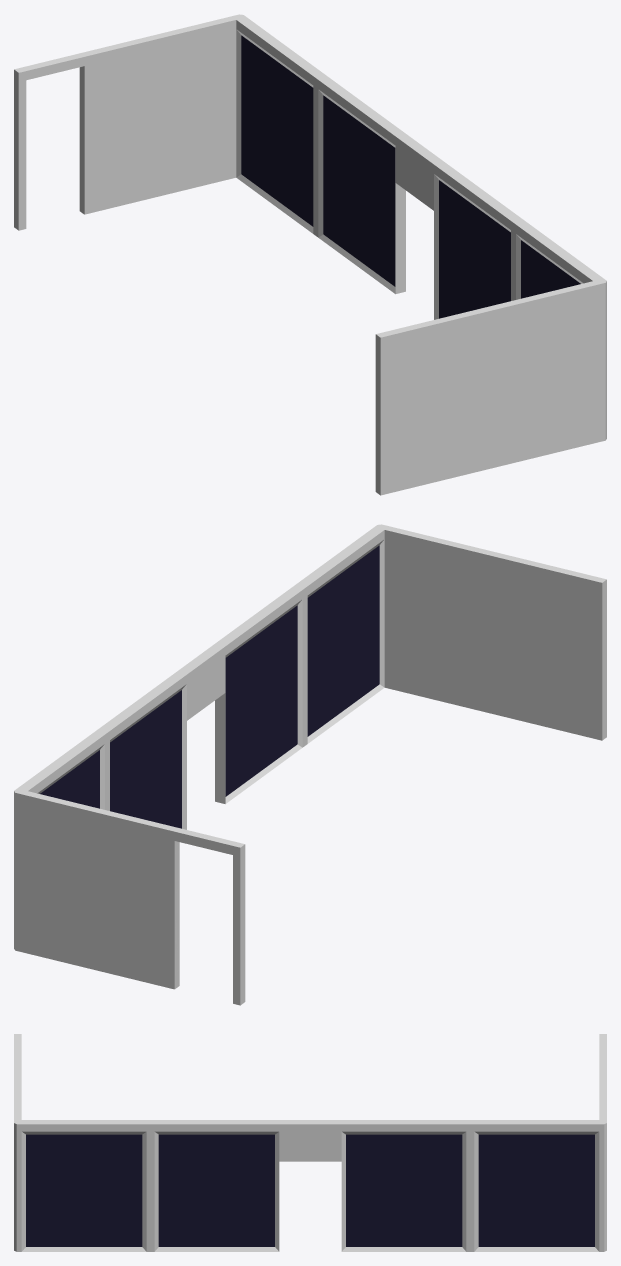
The model's file is garageOffice.fbx.
3 renders of one model, top to bottom at view 1: azimuth 30°, elevation 25°; view 2: azimuth 150°, elevation 25°; view 3: azimuth 270°, elevation 25°, orthographic. The views are drawn at different scales.
Parts seen in each view (by area): view 1: Cube; view 2: Cube; view 3: Cube.
Boxes of the visible parts, bbox=[...] form: Cube: bbox=[14, 14, 606, 495]; Cube: bbox=[14, 524, 606, 1005]; Cube: bbox=[14, 1034, 606, 1251].
Bounding box in the file's own units: 321 × 212 × 894.
